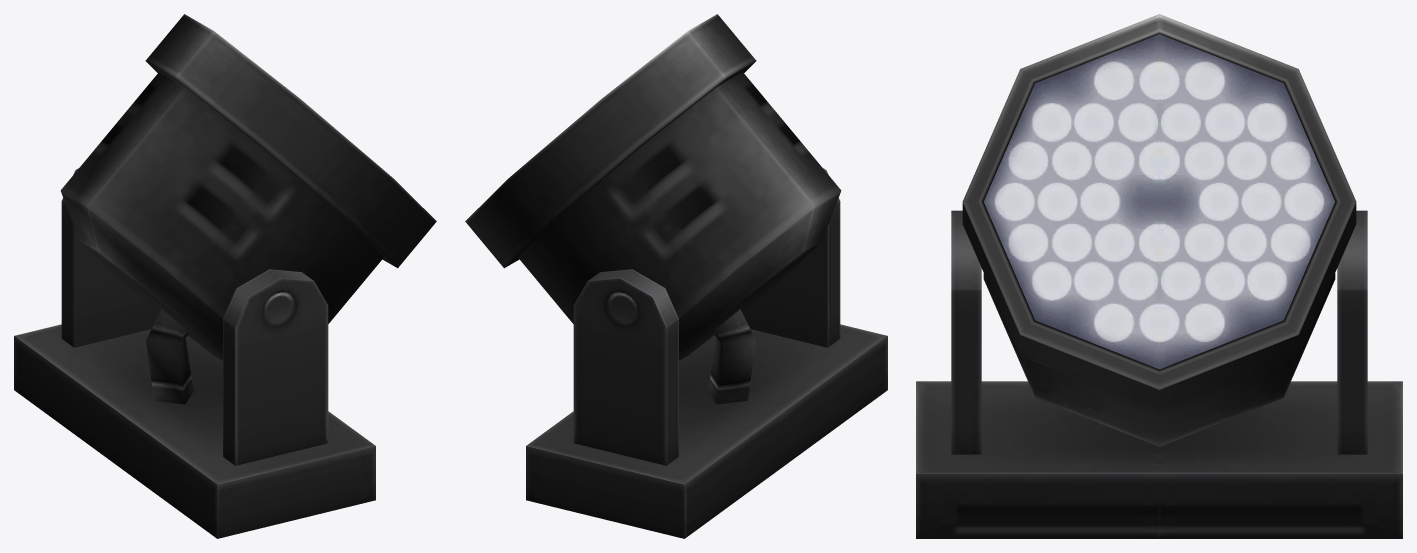
File: my_ariussummer_01_light_01.glb
The picture shows the model from 3 angles, left to right: view 1: azimuth 30°, elevation 25°; view 2: azimuth 150°, elevation 25°; view 3: azimuth 270°, elevation 25°; orthographic projection. The views are drawn at different scales.
Parts seen in each view (by area): view 1: my_ariussummer_01_light_01; view 2: my_ariussummer_01_light_01; view 3: my_ariussummer_01_light_01.
Part boxes in pixels (bbox=[...]): my_ariussummer_01_light_01: bbox=[14, 14, 436, 538]; my_ariussummer_01_light_01: bbox=[465, 14, 887, 538]; my_ariussummer_01_light_01: bbox=[916, 14, 1402, 538].
Size of the model in its own units: 0.00259 by 0.00317 by 0.00285.
Materials: 1 (1 with a texture image).
